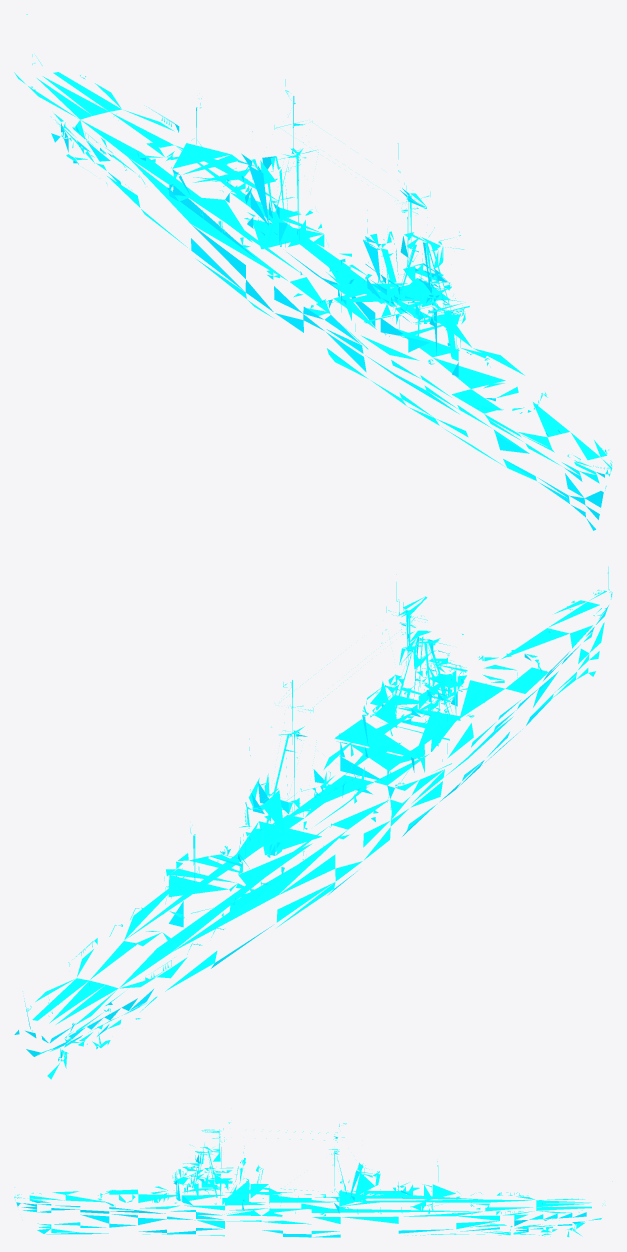
File: Kirov.glb
3 views of the same model, one above another, from view 1: azimuth 30°, elevation 25°; view 2: azimuth 150°, elevation 25°; view 3: azimuth 270°, elevation 25° (orthographic). The views are drawn at different scales.
Size of the model in its own units: 1.19 by 3.06 by 12.9.
